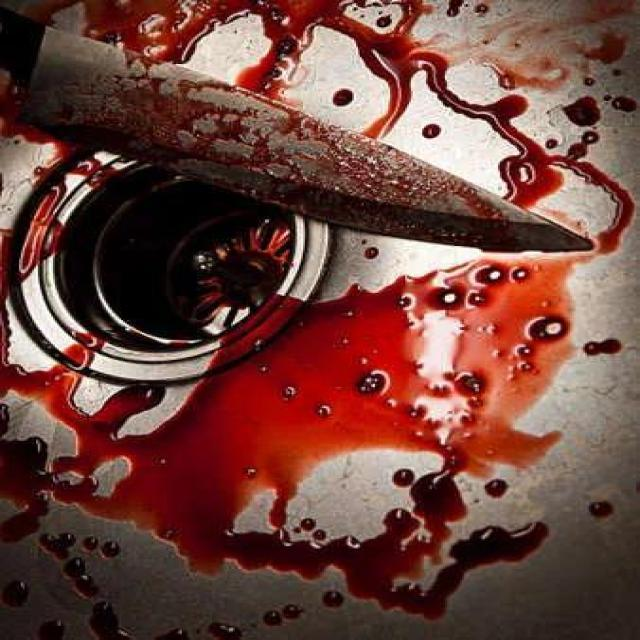flood: (0, 362, 563, 640), (121, 0, 452, 84)
